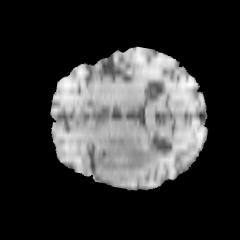glioma: (95, 134, 162, 182)
